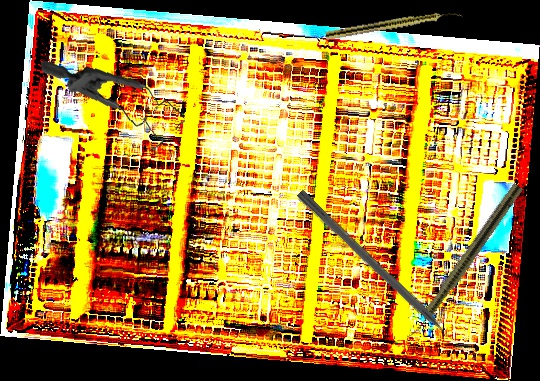Handpiece: (403, 181, 525, 344), (325, 7, 463, 42)
Pusher: (294, 188, 467, 357)
Speculum: (40, 48, 188, 160)
